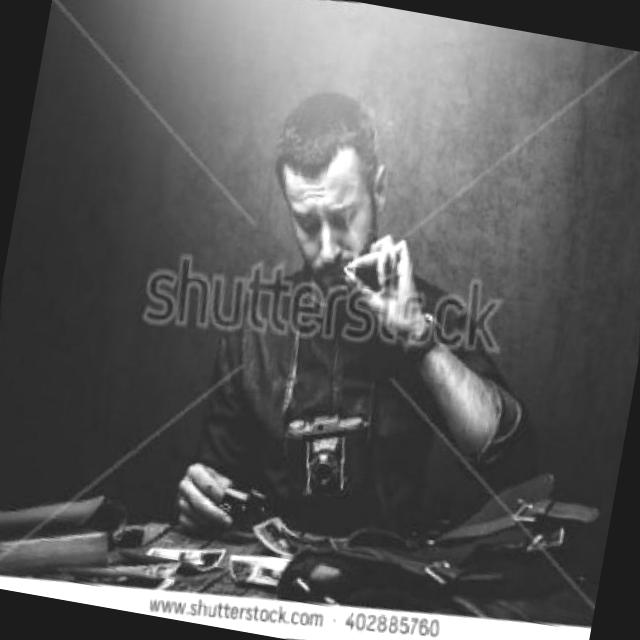smoke: (336, 262, 363, 289)
